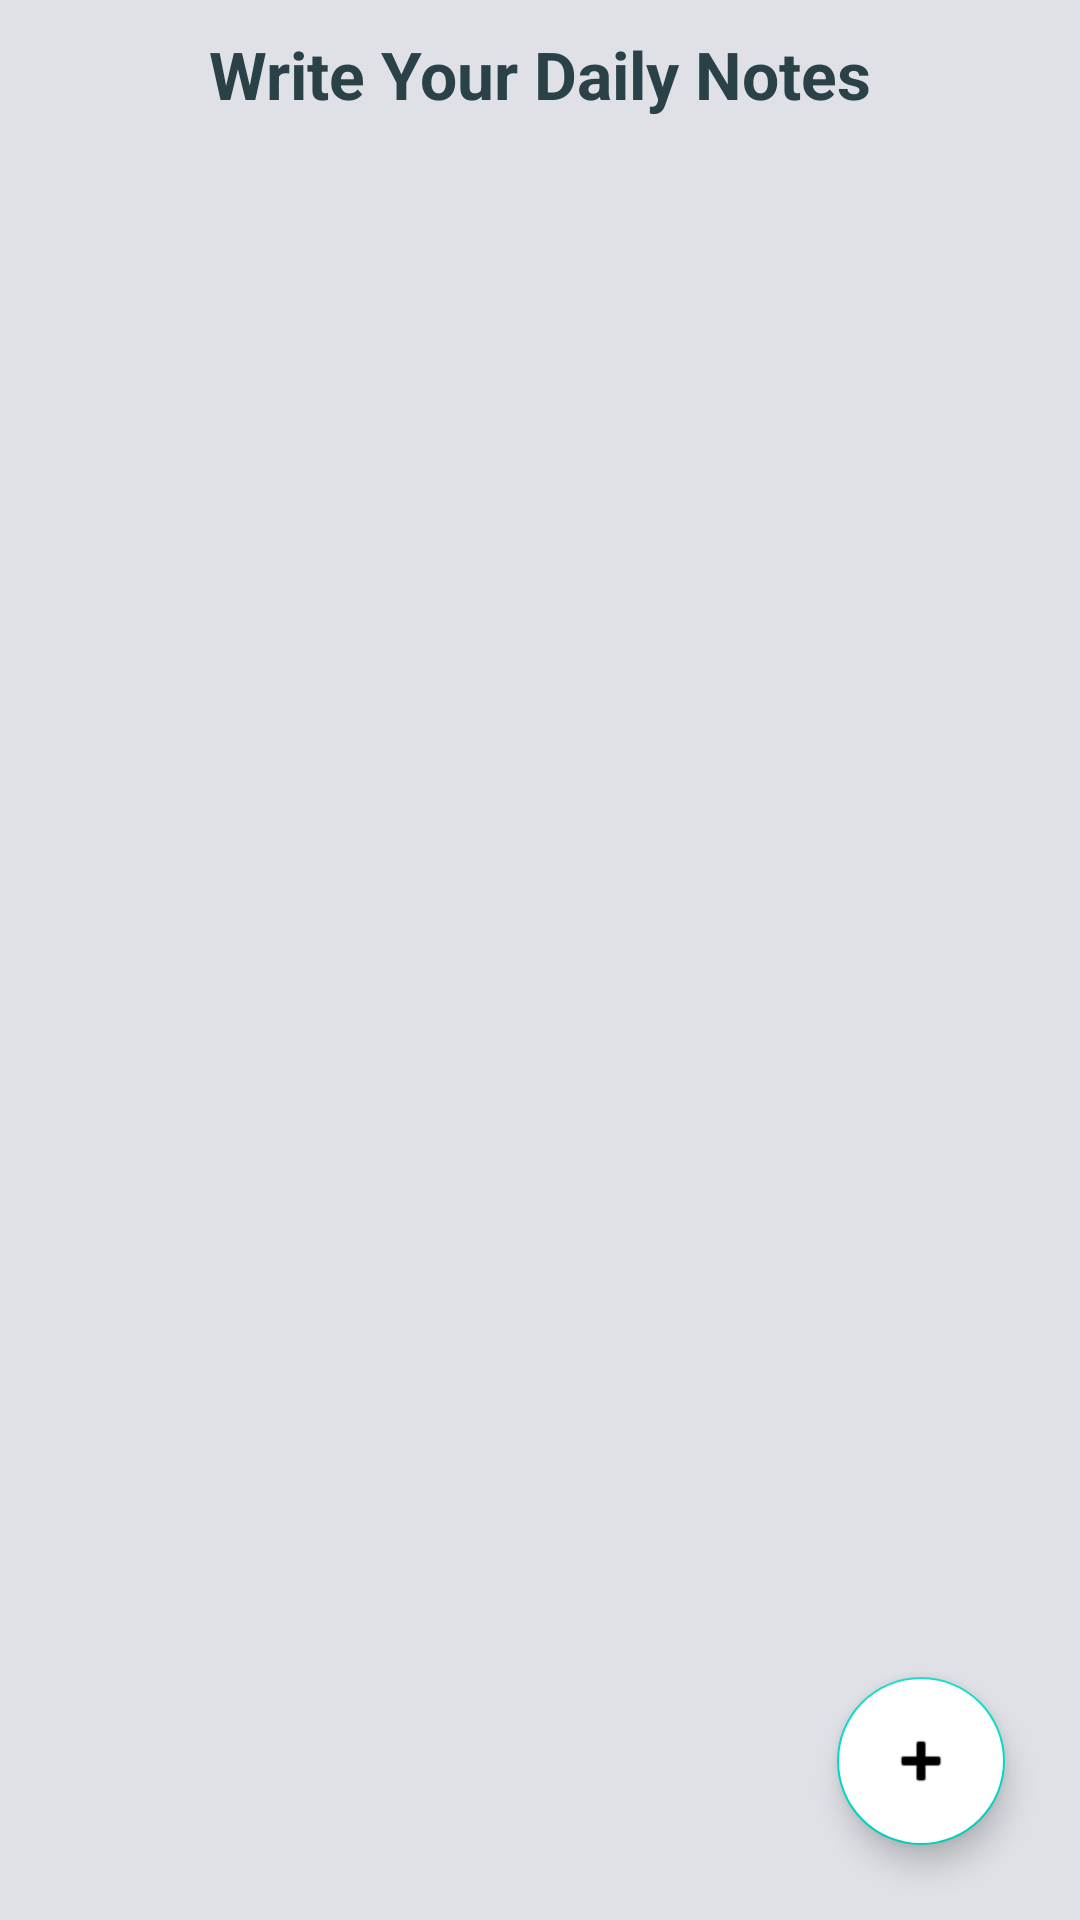

Named icons in this screenshot (1080 × 1920) and their bounding boxes, box=[x1, y1, x2, y2]:
add: box=[837, 1677, 1005, 1845]
